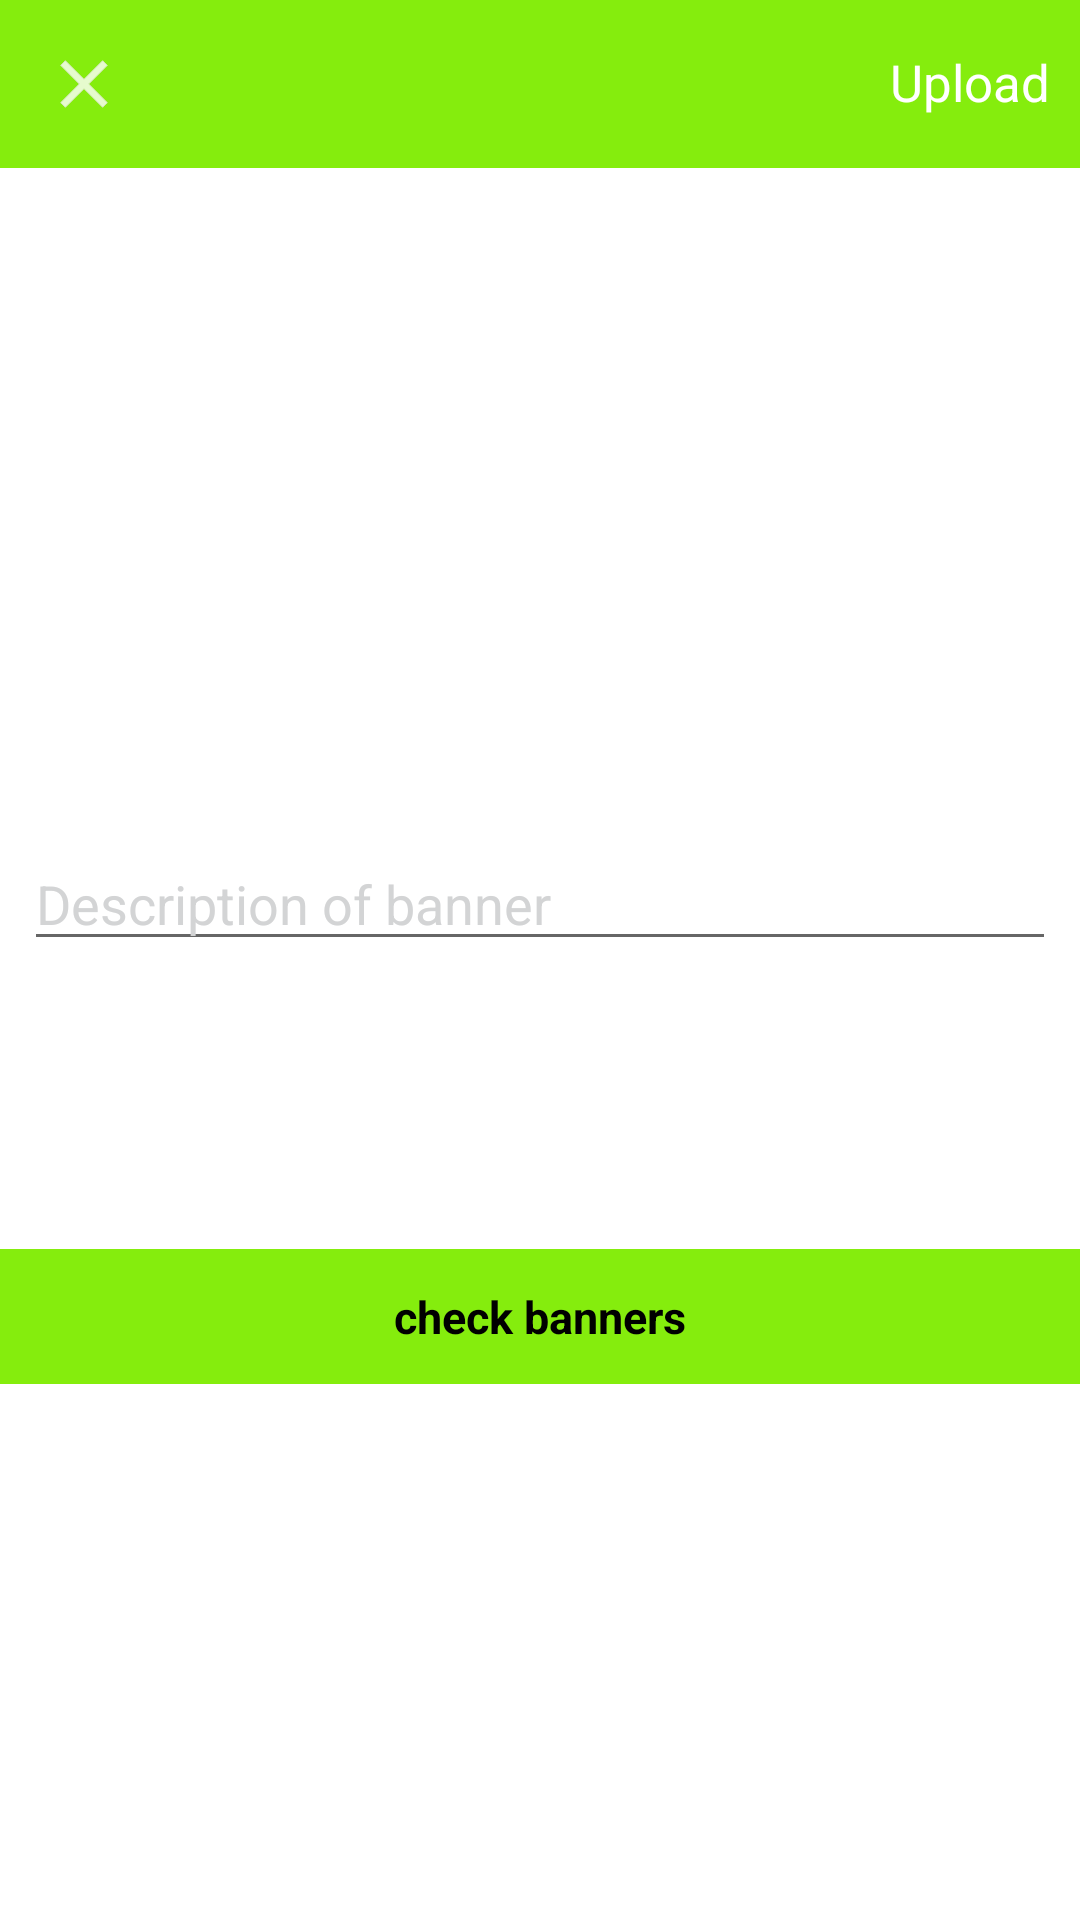

Where icons sit on this 1080w x 1920h app screen, as (x1, y1, x2, y2):
close: (60, 60, 108, 108)
